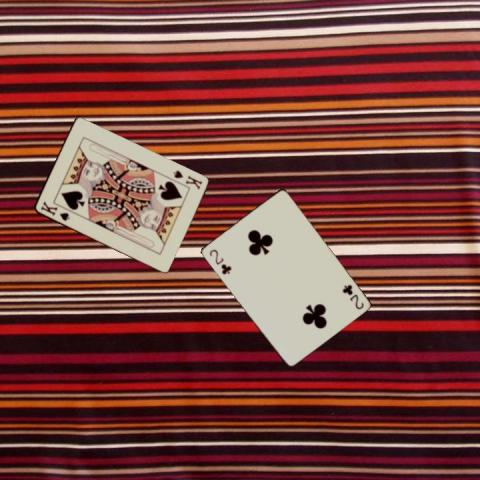2c: (206, 246, 233, 276), (339, 281, 365, 311)
Ks: (170, 168, 203, 192), (37, 199, 71, 222)
